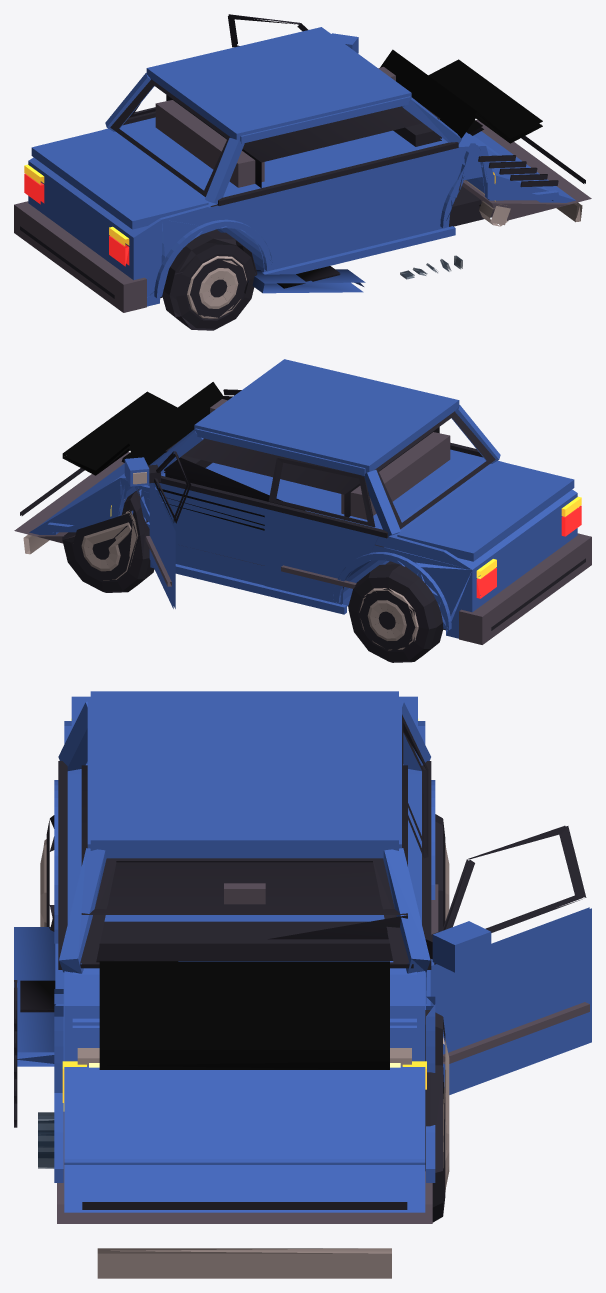
Rendered from prop.l10-abandoned-sedan-blue.lod2.glb.
The picture shows the model from 3 angles, top to bottom: view 1: azimuth 30°, elevation 25°; view 2: azimuth 150°, elevation 25°; view 3: azimuth 270°, elevation 25°; orthographic projection. The views are drawn at different scales.
Visible parts, largest first — view 1: body, object 8, lightsBrake_emi_sirenRed, wheelFL, lightsBrake_emi_schoolBusYellow; view 2: body, object 8, wheelFR, lightsBrake_emi_sirenRed, lightsBrake_emi_schoolBusYellow; view 3: body, object 8, wheelFR.
Part boxes in pixels (<box>): body: <box>14,27,591,312</box>; object 8: <box>129,14,582,330</box>; lightsBrake_emi_sirenRed: <box>24,173,129,266</box>; wheelFL: <box>479,201,510,226</box>; lightsBrake_emi_schoolBusYellow: <box>24,164,129,246</box>; body: <box>14,359,591,644</box>; object 8: <box>23,382,443,662</box>; wheelFR: <box>62,489,154,592</box>; lightsBrake_emi_sirenRed: <box>476,505,581,598</box>; lightsBrake_emi_schoolBusYellow: <box>476,496,581,578</box>; body: <box>54,691,435,1223</box>; object 8: <box>14,714,591,1278</box>; wheelFR: <box>425,1010,449,1222</box>.
Bounding box in the file's own units: 4.46 × 1.64 × 2.75.
